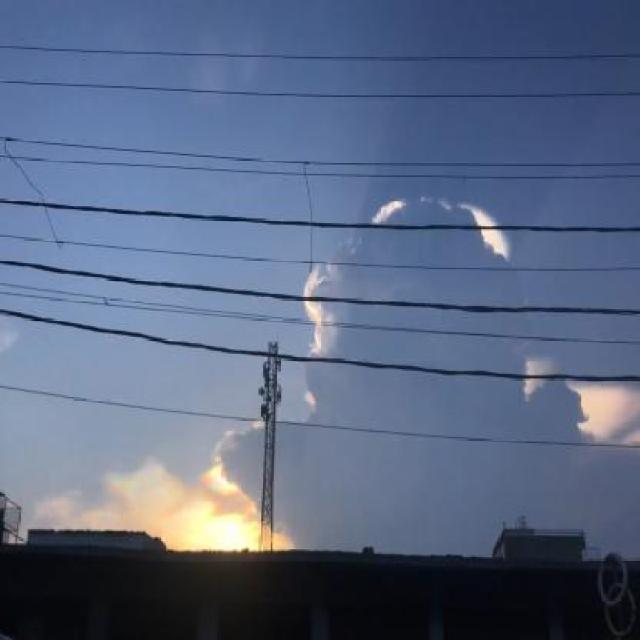bird: (102, 296, 109, 310)
